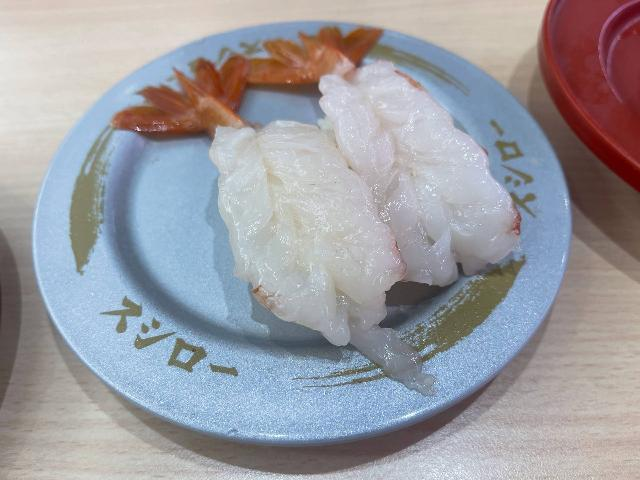janwhite: (84, 25, 560, 415), (529, 0, 640, 184)
